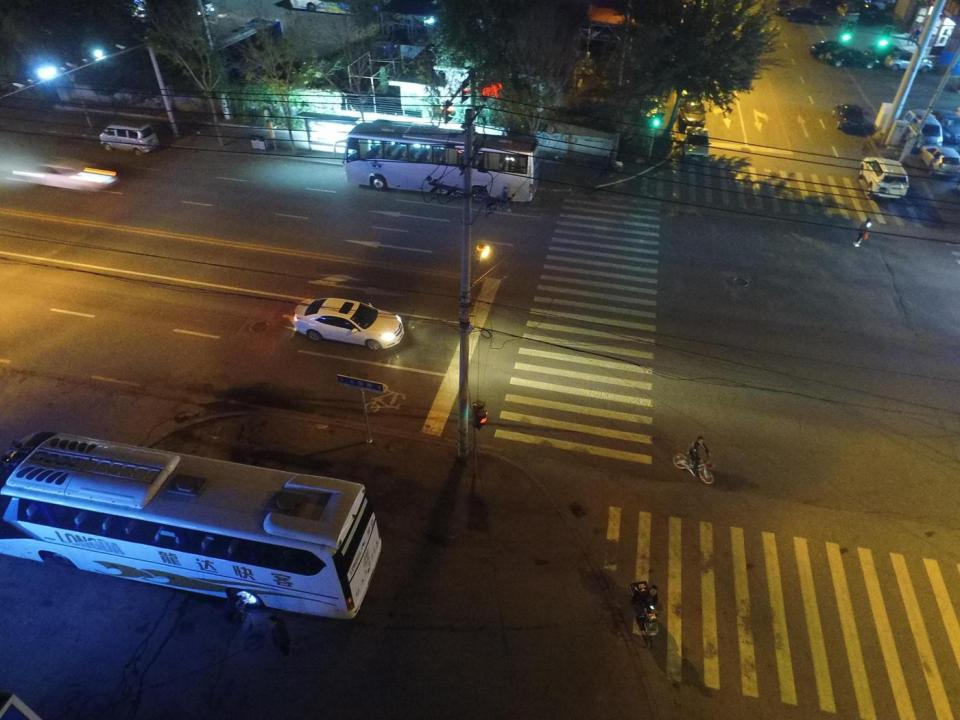bus: (0, 430, 383, 620), (344, 116, 539, 202)
car: (292, 296, 406, 352), (4, 150, 122, 192), (859, 154, 908, 200), (921, 145, 960, 175), (885, 50, 936, 72), (826, 48, 878, 69), (833, 100, 866, 133), (808, 39, 852, 61), (676, 98, 708, 128), (684, 127, 712, 158), (934, 109, 960, 142), (868, 42, 911, 60), (789, 7, 828, 24), (678, 74, 702, 98)
van: (99, 121, 160, 155), (901, 109, 942, 151)
